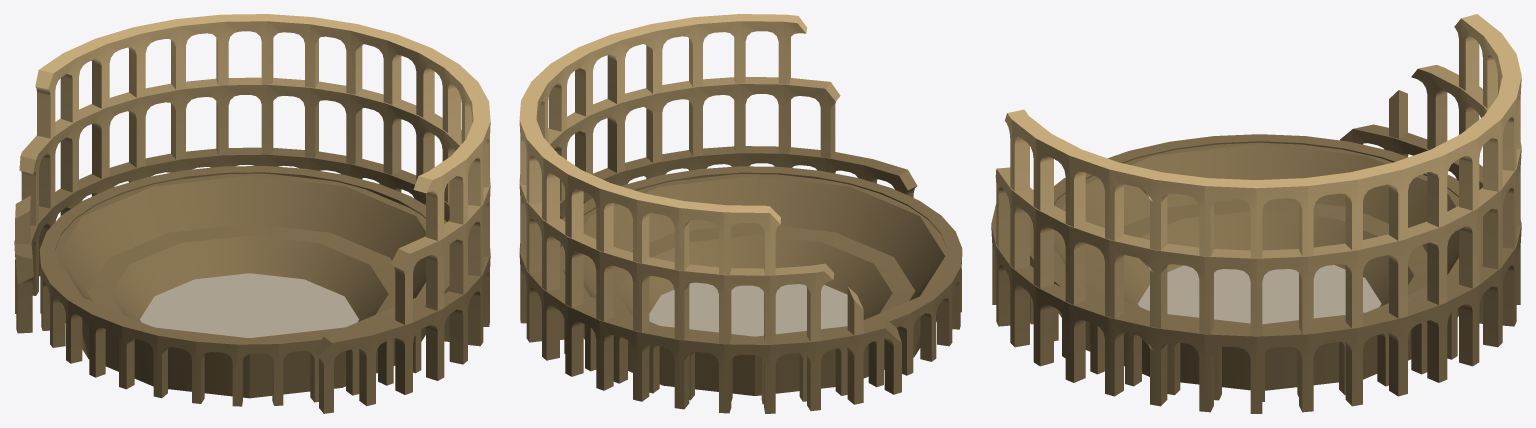
File: colosseum_poly.glb
3 renders of one model, left to right at view 1: azimuth 30°, elevation 25°; view 2: azimuth 150°, elevation 25°; view 3: azimuth 270°, elevation 25°, orthographic. The views are drawn at different scales.
Parts seen in each view (by area): view 1: Object_4, Object_6, Object_5, Object_7; view 2: Object_4, Object_6, Object_5, Object_7; view 3: Object_4, Object_6, Object_5, Object_7.
Boxes of the visible parts, left/top/right/bottom form: Object_4: left=14, top=147, right=490, bottom=413; Object_6: left=15, top=77, right=490, bottom=324; Object_5: left=35, top=14, right=490, bottom=240; Object_7: left=140, top=273, right=358, bottom=337; Object_4: left=519, top=146, right=962, bottom=413; Object_6: left=519, top=77, right=863, bottom=344; Object_5: left=519, top=14, right=807, bottom=275; Object_7: left=649, top=282, right=847, bottom=336; Object_4: left=991, top=124, right=1521, bottom=413; Object_6: left=995, top=65, right=1521, bottom=335; Object_5: left=1005, top=14, right=1521, bottom=258; Object_7: left=1138, top=265, right=1381, bottom=324.
Size of the model in its own units: 43.79 by 21.61 by 45.43.
